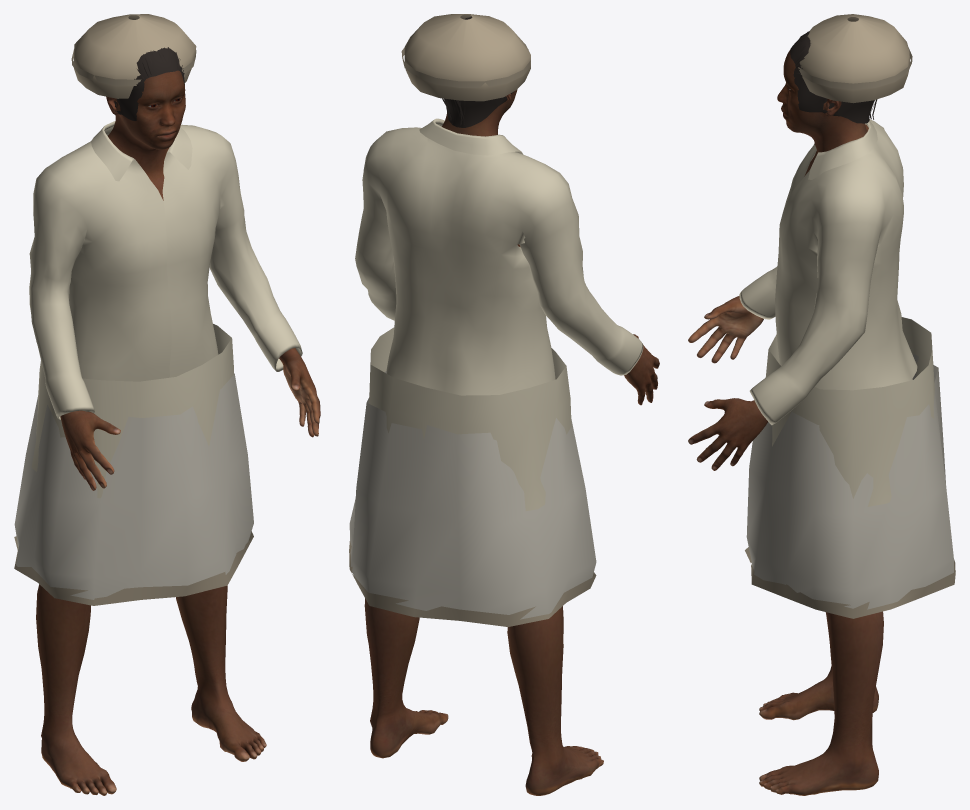
Rendered from village_farmer.glb.
3 renders of one model, left to right at view 1: azimuth 30°, elevation 25°; view 2: azimuth 150°, elevation 25°; view 3: azimuth 270°, elevation 25°, orthographic. The views are drawn at different scales.
Visible parts, largest first — view 1: Fitted cotton upper base_full_body_static, Knee length wrapped dhoti_full_body_static, village_farmer_MakeHuman_body_full_body_static, Kurta loose lower panel_full_body_static, Soft cotton head wrap_full_body_static, Dhoti woven border_full_body_static, Farmer_hair_full_body_static, Head wrap fold_full_body_static; view 2: Fitted cotton upper base_full_body_static, Knee length wrapped dhoti_full_body_static, village_farmer_MakeHuman_body_full_body_static, Kurta loose lower panel_full_body_static, Soft cotton head wrap_full_body_static, Dhoti woven border_full_body_static, Farmer_hair_full_body_static, Head wrap fold_full_body_static; view 3: Fitted cotton upper base_full_body_static, Knee length wrapped dhoti_full_body_static, village_farmer_MakeHuman_body_full_body_static, Kurta loose lower panel_full_body_static, Soft cotton head wrap_full_body_static, Dhoti woven border_full_body_static, Farmer_hair_full_body_static, Head wrap fold_full_body_static.
Boxes of the visible parts, x1,y1,x2,y2 form: Fitted cotton upper base_full_body_static: (29, 121, 302, 421); Knee length wrapped dhoti_full_body_static: (14, 373, 253, 599); village_farmer_MakeHuman_body_full_body_static: (36, 70, 320, 795); Kurta loose lower panel_full_body_static: (31, 324, 233, 498); Soft cotton head wrap_full_body_static: (73, 14, 196, 98); Dhoti woven border_full_body_static: (14, 531, 253, 605); Farmer_hair_full_body_static: (114, 47, 185, 120); Head wrap fold_full_body_static: (71, 49, 196, 85); Fitted cotton upper base_full_body_static: (355, 118, 643, 395); Knee length wrapped dhoti_full_body_static: (349, 371, 596, 619); village_farmer_MakeHuman_body_full_body_static: (364, 89, 659, 795); Kurta loose lower panel_full_body_static: (369, 327, 571, 511); Soft cotton head wrap_full_body_static: (404, 14, 530, 101); Dhoti woven border_full_body_static: (349, 541, 596, 626); Farmer_hair_full_body_static: (442, 16, 514, 127); Head wrap fold_full_body_static: (401, 47, 530, 87); Fitted cotton upper base_full_body_static: (739, 119, 917, 425); Knee length wrapped dhoti_full_body_static: (746, 354, 953, 609); village_farmer_MakeHuman_body_full_body_static: (688, 49, 883, 795); Kurta loose lower panel_full_body_static: (765, 317, 934, 506); Soft cotton head wrap_full_body_static: (799, 14, 909, 103); Dhoti woven border_full_body_static: (745, 547, 955, 618); Farmer_hair_full_body_static: (790, 31, 877, 123); Head wrap fold_full_body_static: (798, 47, 912, 89).
Size of the model in its own units: 0.5892 by 1.67 by 0.5552.
7 materials, 2 textured.
